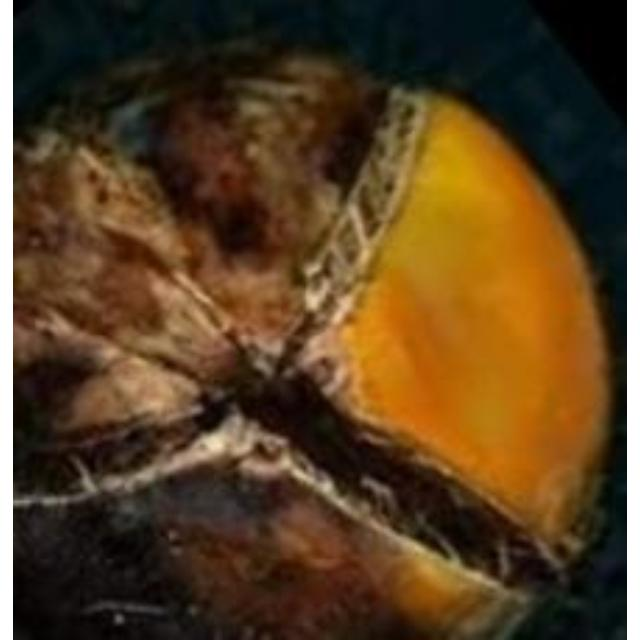damaged: (13, 42, 611, 637)
